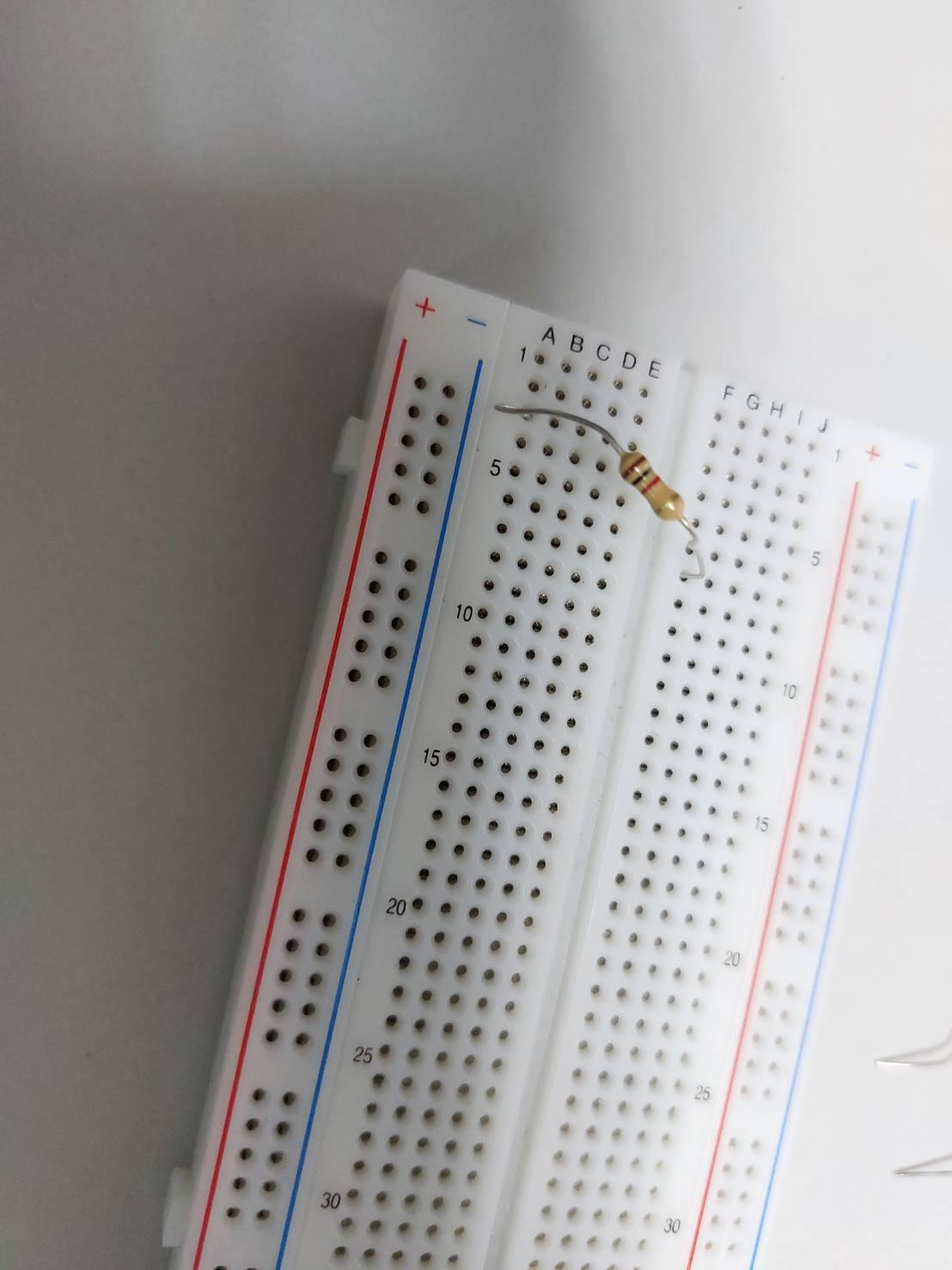resistor: (619, 452, 684, 522)
